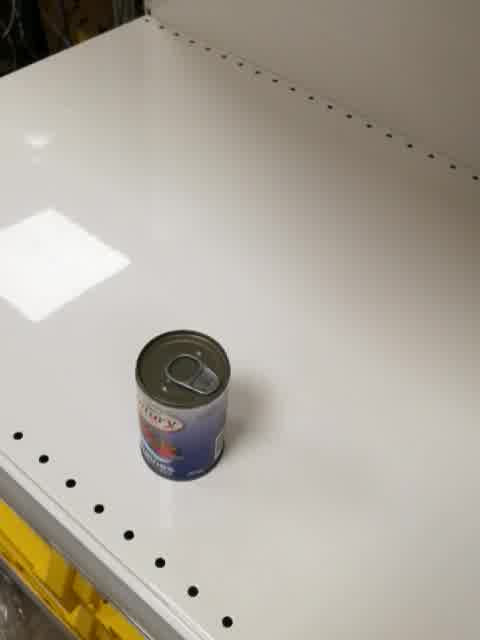sardine: (135, 328, 231, 482)
